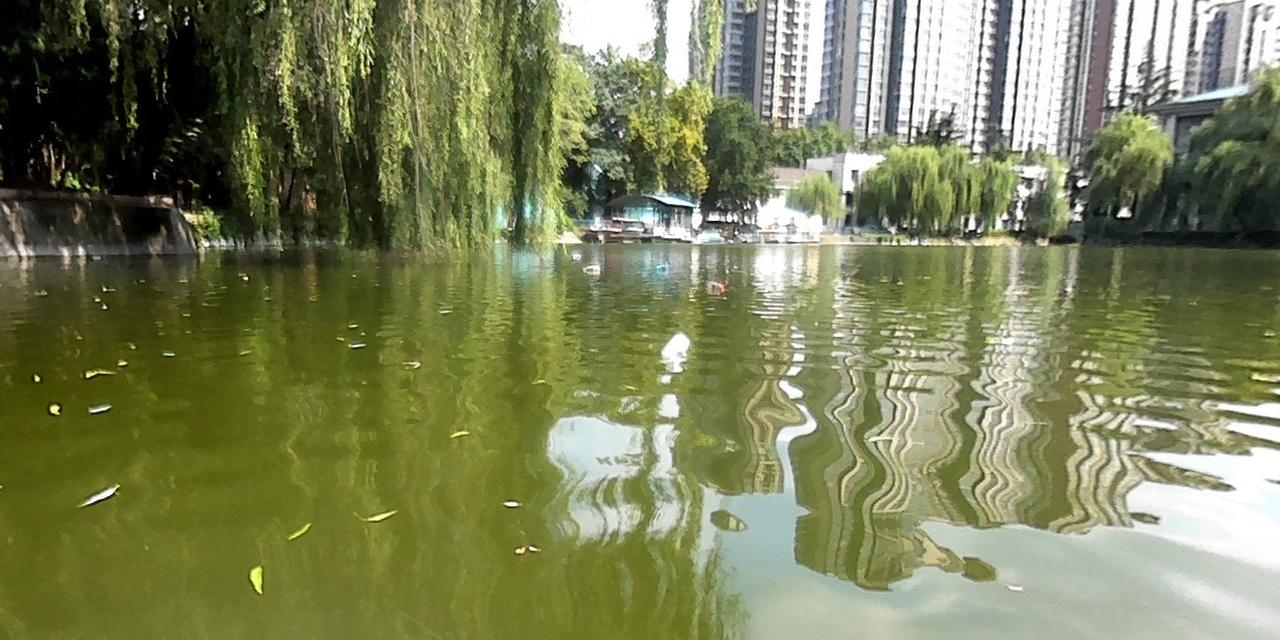bottle: (659, 333, 689, 360), (706, 280, 723, 291), (571, 253, 583, 265), (581, 264, 598, 272), (656, 264, 666, 273)
